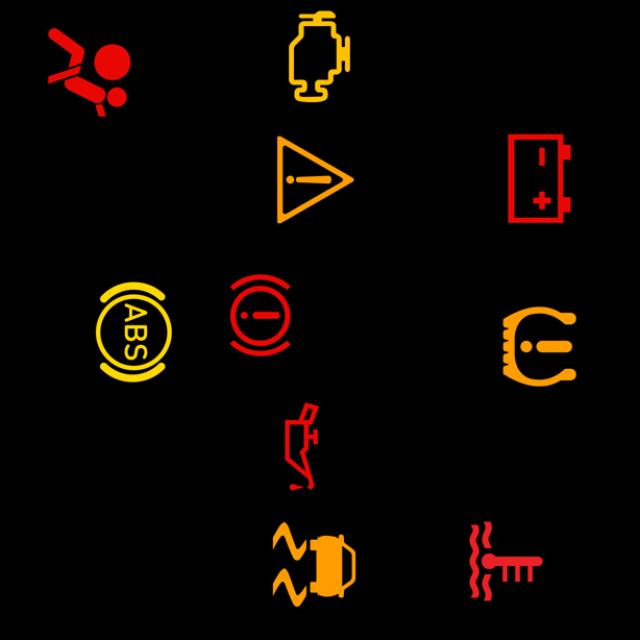Anti Lock Braking System: (79, 277, 189, 387)
Braking System Issue: (205, 261, 315, 370)
Charging System Issue: (485, 124, 594, 234)
Check Engine: (265, 2, 374, 112)
Electronic Stability Problem -ESP-: (260, 510, 369, 619)
Engine Overheating Warning Light: (451, 507, 561, 616)
Low Engine Oil Warning Light: (247, 392, 357, 501)
Low Tire Pressure Warning Light: (485, 292, 594, 401)
Master warning light: (261, 125, 370, 235)
SRS-Airbag: (34, 18, 144, 127)
